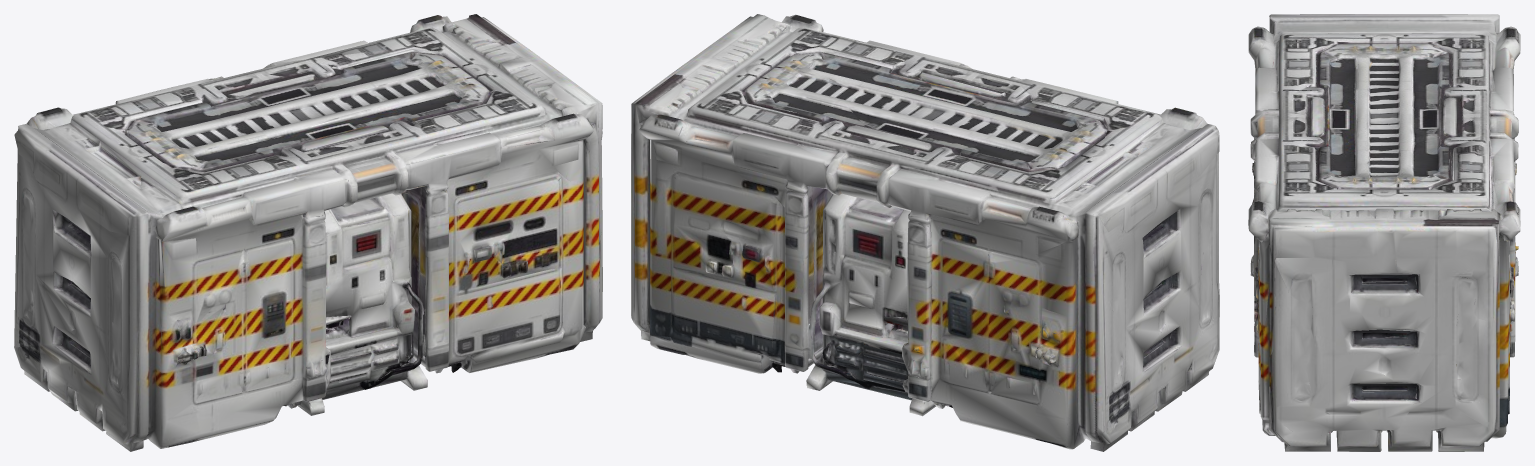
Rendered from frigate_engineering.repacked.glb.
The picture shows the model from 3 angles, left to right: view 1: azimuth 30°, elevation 25°; view 2: azimuth 150°, elevation 25°; view 3: azimuth 270°, elevation 25°; orthographic projection. The views are drawn at different scales.
Visible parts, largest first — view 1: Mesh1.0; view 2: Mesh1.0; view 3: Mesh1.0.
Boxes of the visible parts, left/top/right/bottom form: Mesh1.0: left=14, top=14, right=602, bottom=451; Mesh1.0: left=631, top=14, right=1219, bottom=451; Mesh1.0: left=1248, top=14, right=1520, bottom=451.
Bounding box in the file's own units: 1.91 × 0.9617 × 1.01.
Materials: 1 (1 with a texture image).
